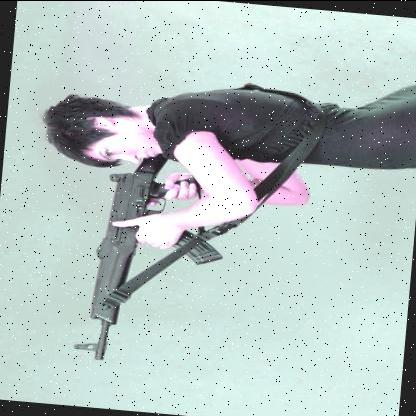rifle: (61, 145, 235, 372)
